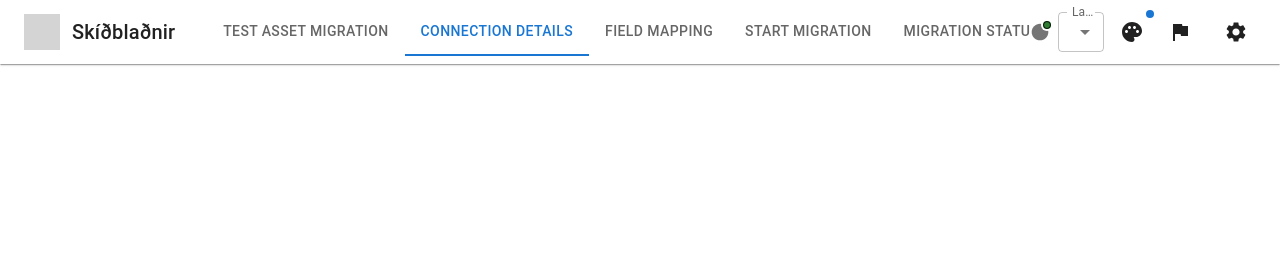
it: NavigationBar › opens settings menu when settings button is clicked
The width and height of the screenshot is (1280, 278).
Click the button with test id "settings-button" at (1236, 32), box x1=1216 y1=12 x2=1256 y2=52
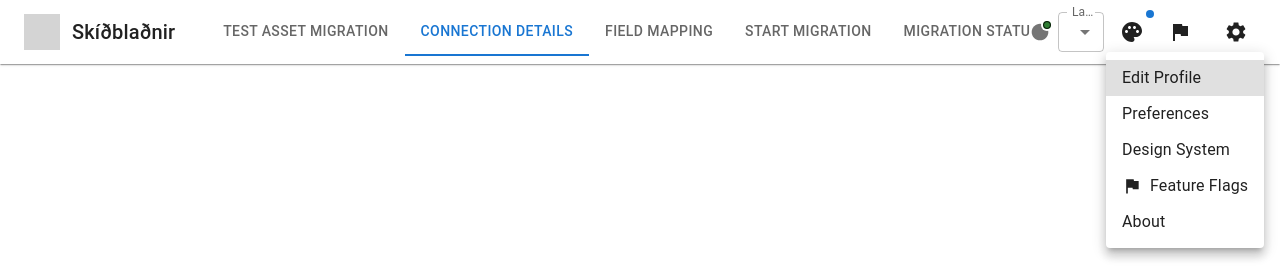
Expected: the element with test id "settings-menu" is shown, x1=1106 y1=52 x2=1264 y2=248
